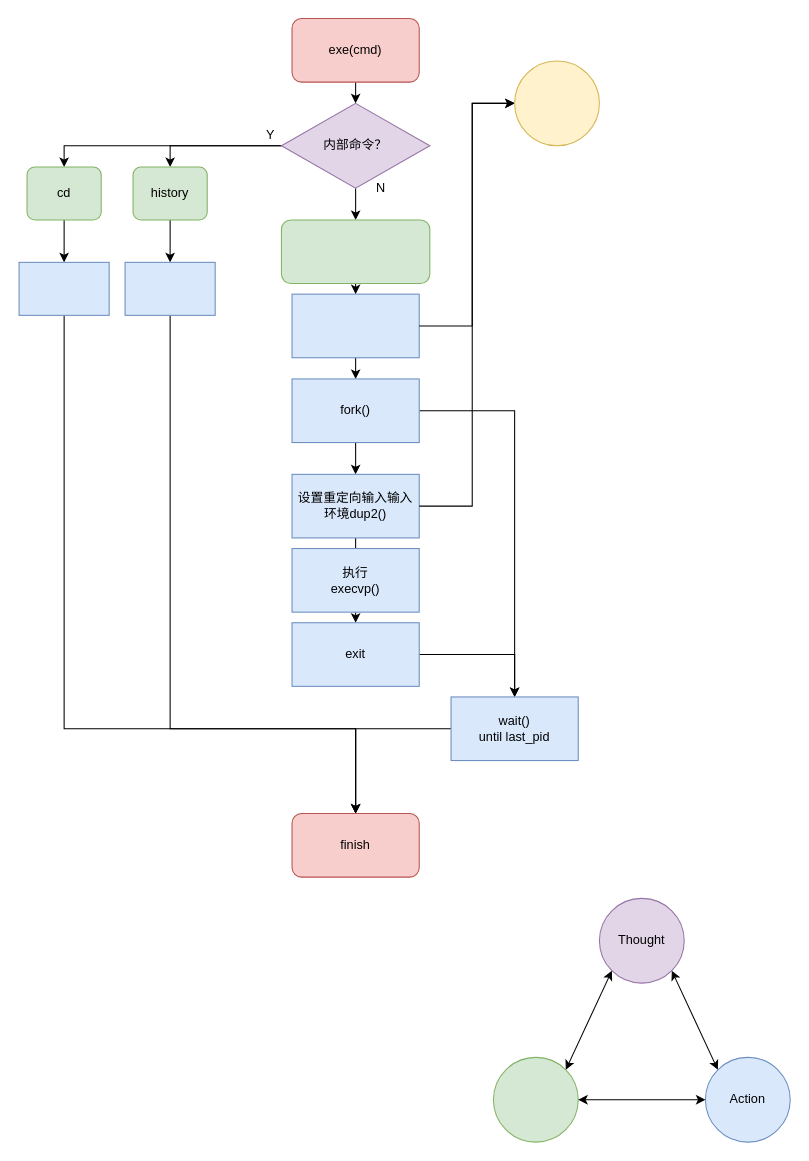
Image size: 809x1161. Some labels were removed from this diagram. Each missing label, with the centre of its shape:
"cmd_redir_info" belongs at [556,103].
"external command" belongs at [355,251].
"Feeling" belongs at [535,1099].
"getdir() chdir()" belongs at [63,288].
"open(history.txt) print()" belongs at [169,288].
"设定指令间的管道 pipe()" belongs at [355,325].
